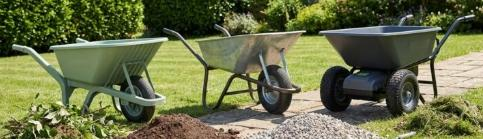BROUETTE: (6, 9, 483, 124)
